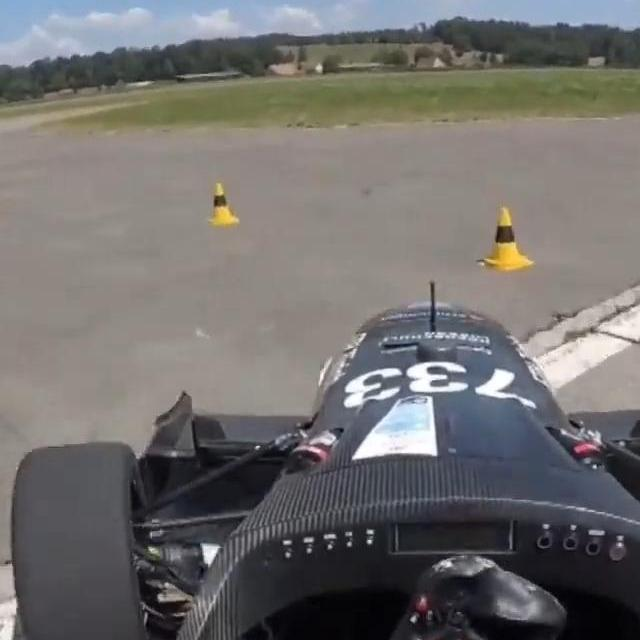Safety Cone: (478, 203, 538, 275), (209, 181, 241, 230)
vehicle: (0, 282, 640, 640)
